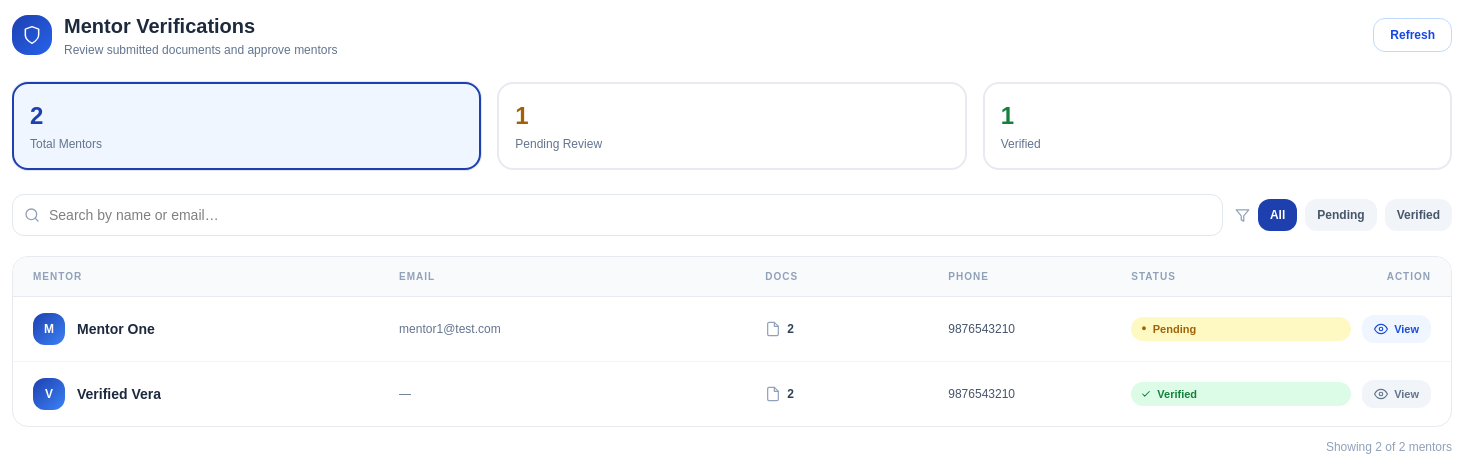
Scenario: AdminVerifications › filters by status using the filter chips, and toggling works both ways
Expected: the text "Mentor One" is shown, [77,319,155,339]
Step 1. Click the button "verified" → (1418, 215), box [1385,199,1452,231]
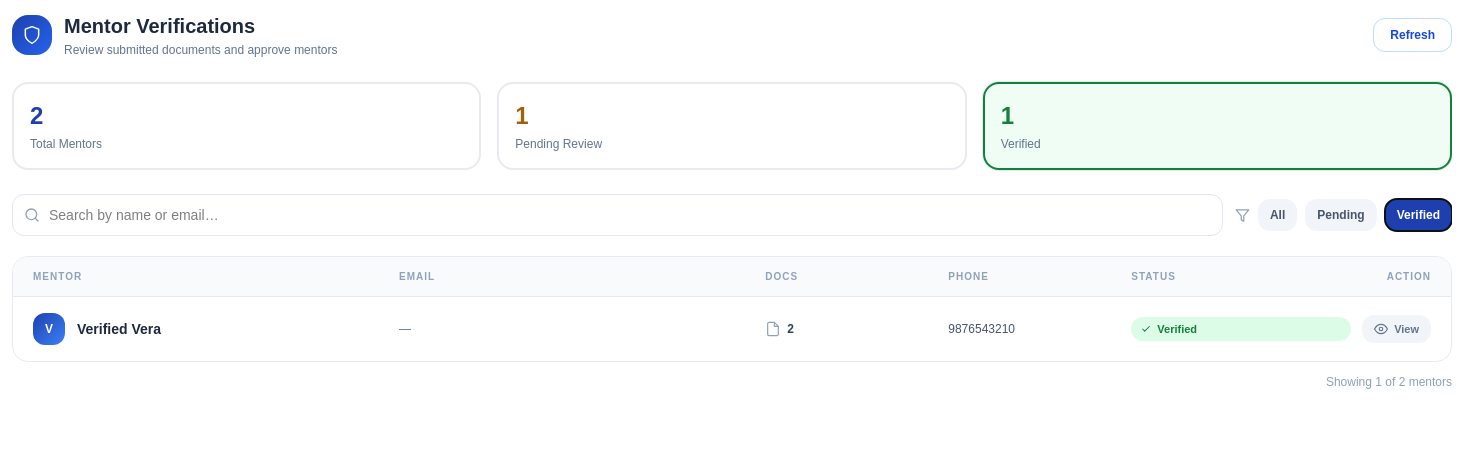
Expected: the text "Verified Vera" is shown, [77,319,161,339]
Expected: the button "Mentor One" is gone
Step 2. Click the button "pending" → (1341, 215), box [1305,199,1377,231]
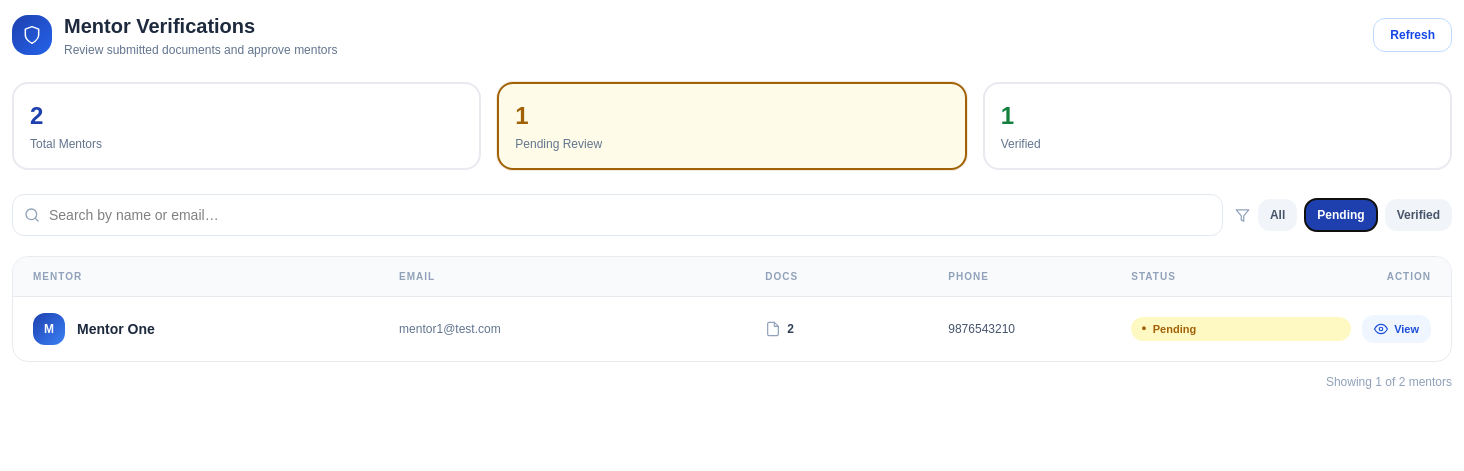
Expected: the text "Mentor One" is shown, [77,319,155,339]
Expected: the button "Verified Vera" is gone
Step 3. Click the button "all" → (1278, 215), box [1258,199,1297,231]
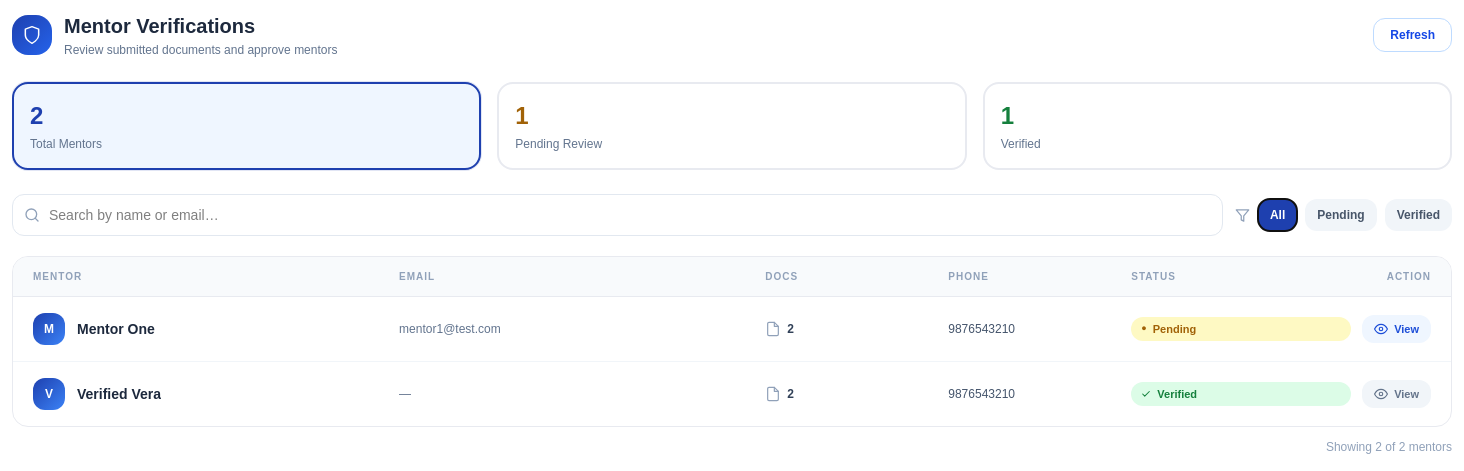
Expected: the text "Mentor One" is shown, [77,319,155,339]
Expected: the text "Verified Vera" is shown, [77,384,161,404]
